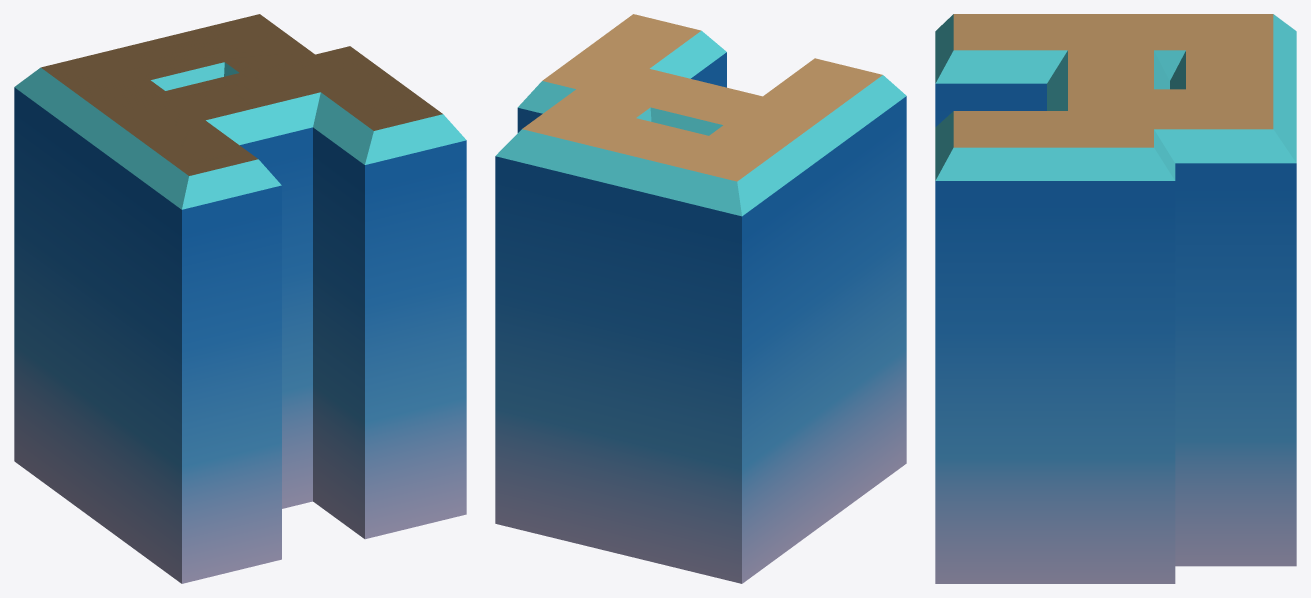
3 views of the same model, side by side, from view 1: azimuth 30°, elevation 25°; view 2: azimuth 150°, elevation 25°; view 3: azimuth 270°, elevation 25° (orthographic). The views are drawn at different scales.
Visible parts, largest first — view 1: Joint_0_Object_0, Joint_0_Object_1; view 2: Joint_0_Object_0, Joint_0_Object_1; view 3: Joint_0_Object_0, Joint_0_Object_1.
Boxes of the visible parts, x1,y1,x2,y2 form: Joint_0_Object_0: [14, 62, 466, 583]; Joint_0_Object_1: [41, 14, 442, 175]; Joint_0_Object_0: [495, 30, 906, 583]; Joint_0_Object_1: [522, 14, 882, 181]; Joint_0_Object_0: [935, 14, 1296, 583]; Joint_0_Object_1: [953, 14, 1273, 147].
Bounding box in the file's own units: 105 × 140 × 107.
